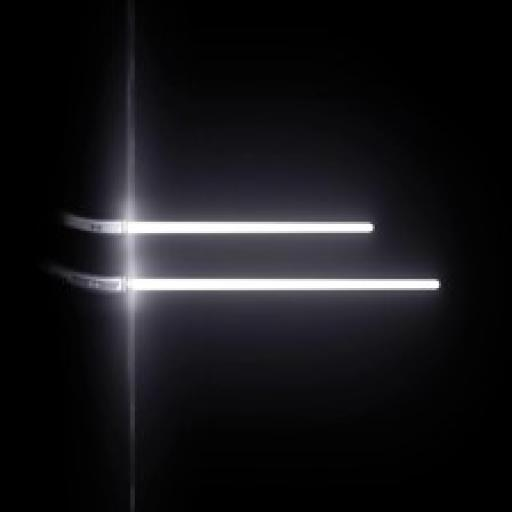lightsaber: (65, 272, 442, 294), (71, 215, 374, 236)
